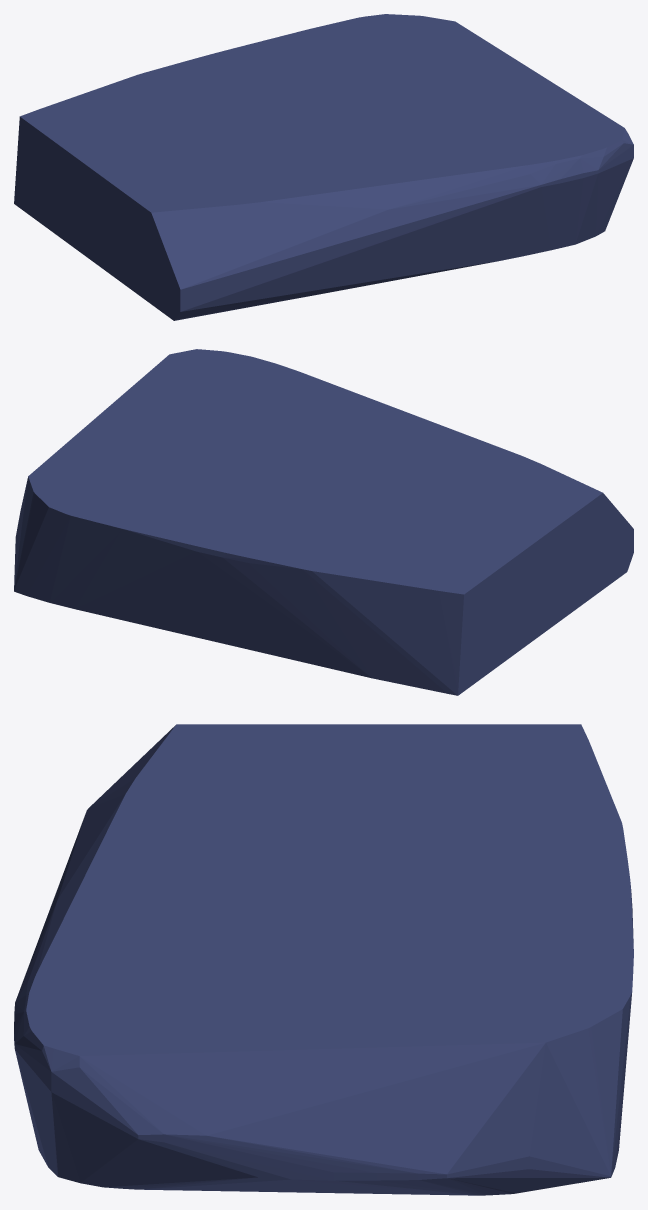
3 renders of one model, top to bottom at view 1: azimuth 30°, elevation 25°; view 2: azimuth 150°, elevation 25°; view 3: azimuth 270°, elevation 25°, orthographic. The views are drawn at different scales.
Size of the model in its own units: 0.0583 by 0.011 by 0.0438.
